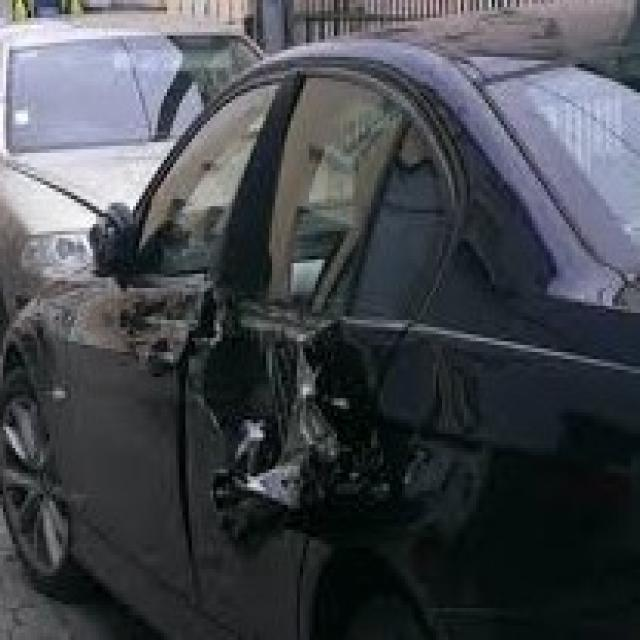moderate: (136, 117, 404, 616)
